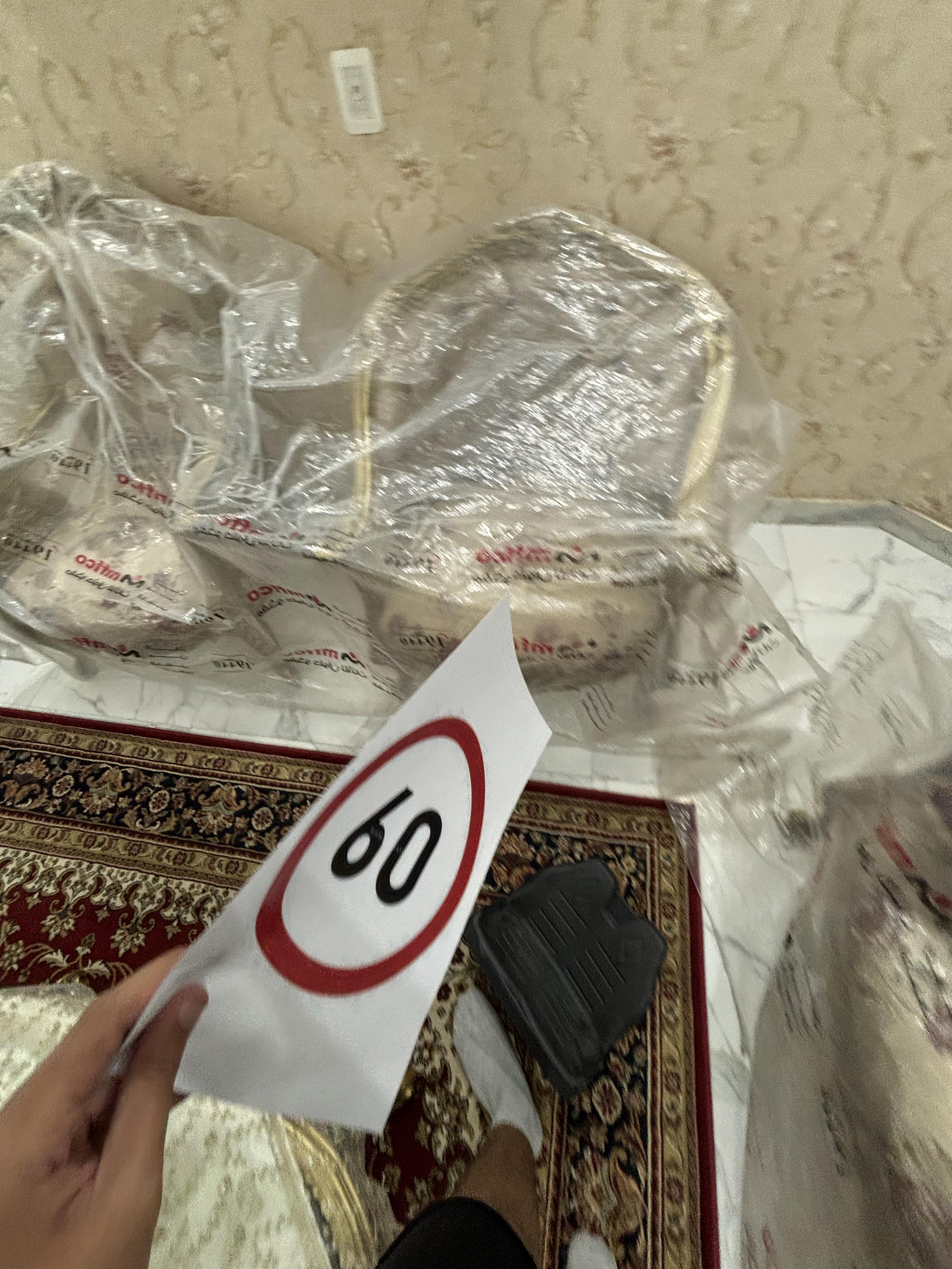60-Speed: (262, 715, 520, 996)
